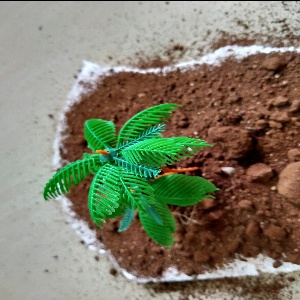plant: (42, 102, 219, 252)
